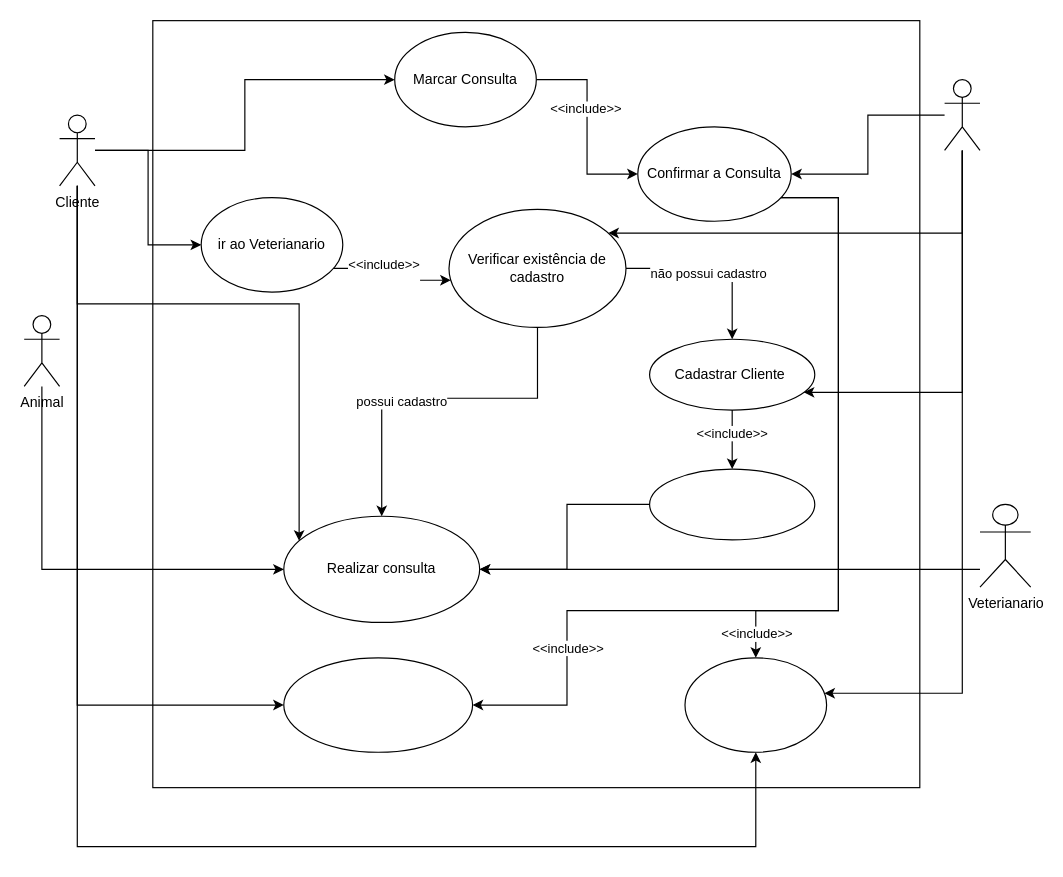
The diagram is 1063 pixels wide and 877 high, and some of its shapes have lost their labels. The shapes that lost their labels are listed below. From the top down, each one's centre as x and y in pixels, then its label:
pixel 961 114: Secretario
pixel 731 504: Cadastrar Animal
pixel 378 704: Cancelar Consulta
pixel 755 704: Pagar consulta
